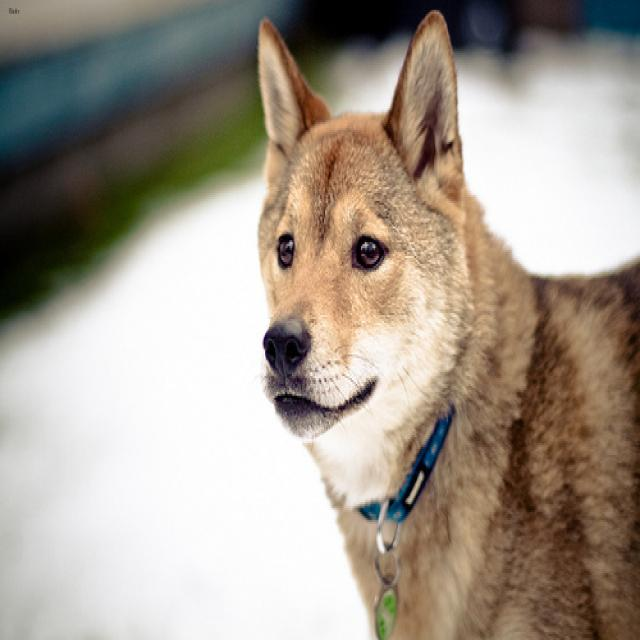dog-shiba_inu: (250, 2, 637, 636)
